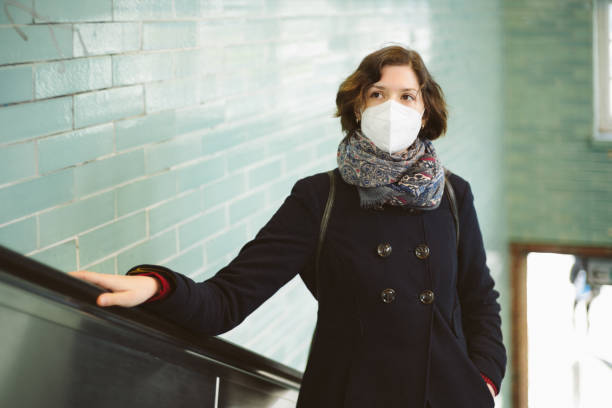with mask: (348, 66, 431, 154)
